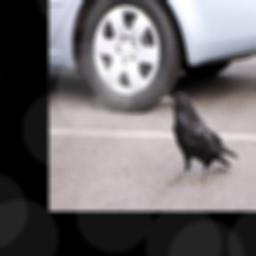Crow: (160, 89, 240, 186)
